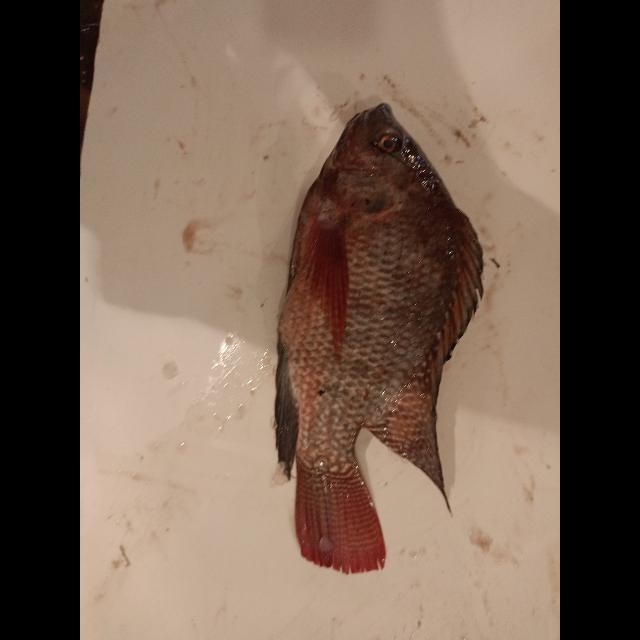Tilapia: (272, 103, 486, 572)
